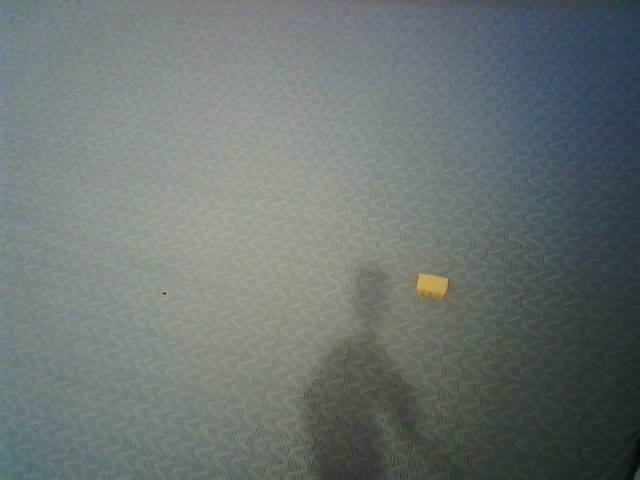lego: (414, 272, 450, 301)
